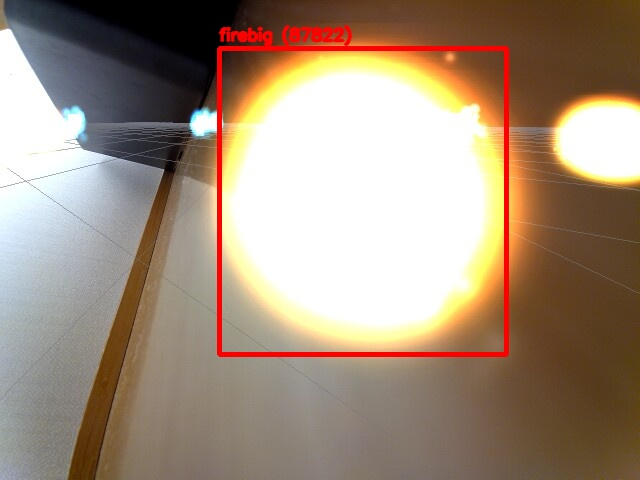firebig: (219, 48, 506, 354)
